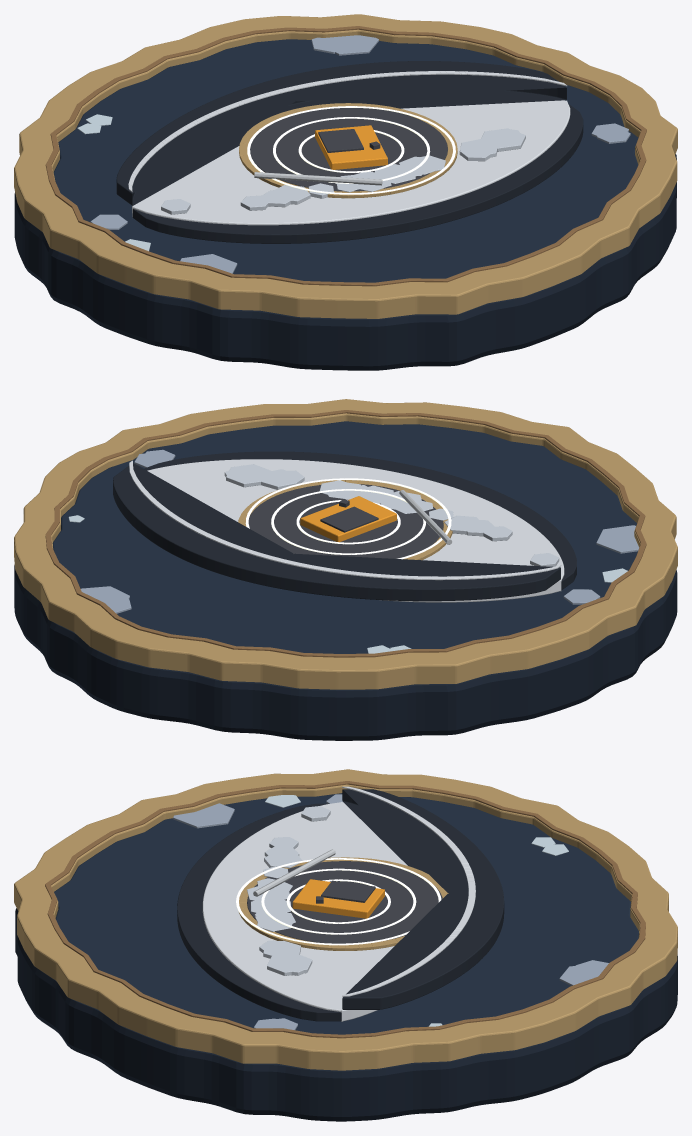
The model's file is avalanche_eye.glb.
3 views of the same model, one above another, from view 1: azimuth 30°, elevation 25°; view 2: azimuth 150°, elevation 25°; view 3: azimuth 270°, elevation 25° (orthographic).
Visible parts, largest first — view 1: BG_Rim, BG_Field, BG_Body, EYE_UpperLid, EYE_Snow, EYE_LowerLid, EYE_Iris, BG_RimLine, EYE_Debris, OUT_Debris, BC_Signal, EYE_IrisRim (+5 smaller); view 2: BG_Field, BG_Rim, BG_Body, EYE_UpperLid, EYE_Snow, BG_RimLine, EYE_Iris, EYE_LowerLid, EYE_Debris, OUT_Debris, EYE_SnowLip, BC_Signal (+4 smaller); view 3: BG_Field, BG_Rim, BG_Body, EYE_UpperLid, EYE_Snow, EYE_Iris, EYE_LowerLid, BG_RimLine, EYE_Debris, BC_Signal, OUT_Debris, EYE_SnowLip (+5 smaller).
Boxes of the visible parts, <box> form: BG_Rim: <box>14,14,677,318</box>; BG_Field: <box>53,39,638,282</box>; BG_Body: <box>14,154,676,370</box>; EYE_UpperLid: <box>116,61,566,205</box>; EYE_Snow: <box>132,100,570,225</box>; EYE_LowerLid: <box>132,103,583,243</box>; EYE_Iris: <box>250,108,447,191</box>; BG_RimLine: <box>45,26,646,286</box>; EYE_Debris: <box>161,128,525,214</box>; OUT_Debris: <box>90,35,630,273</box>; BC_Signal: <box>247,106,455,194</box>; EYE_IrisRim: <box>239,103,457,198</box>; BG_Field: <box>52,421,637,653</box>; BG_Rim: <box>14,399,677,689</box>; BG_Body: <box>14,565,677,740</box>; EYE_UpperLid: <box>113,463,560,601</box>; EYE_Snow: <box>147,459,564,602</box>; BG_RimLine: <box>45,410,646,657</box>; EYE_Iris: <box>248,484,443,558</box>; EYE_LowerLid: <box>144,451,576,590</box>; EYE_Debris: <box>224,464,559,566</box>; OUT_Debris: <box>80,449,639,613</box>; EYE_SnowLip: <box>129,460,561,580</box>; BC_Signal: <box>245,478,451,559</box>; BG_Field: <box>54,793,638,1034</box>; BG_Rim: <box>14,769,677,1070</box>; BG_Body: <box>15,908,677,1121</box>; EYE_UpperLid: <box>342,789,504,1009</box>; EYE_Snow: <box>202,802,407,1021</box>; EYE_Iris: <box>247,861,442,943</box>; EYE_LowerLid: <box>177,803,341,1021</box>; BG_RimLine: <box>45,781,645,1038</box>; EYE_Debris: <box>247,806,330,975</box>; BC_Signal: <box>236,858,441,945</box>; OUT_Debris: <box>173,794,608,1030</box>; EYE_SnowLip: <box>342,786,475,996</box>.
Size of the model in its own units: 0.0423 by 0.00652 by 0.0419.
